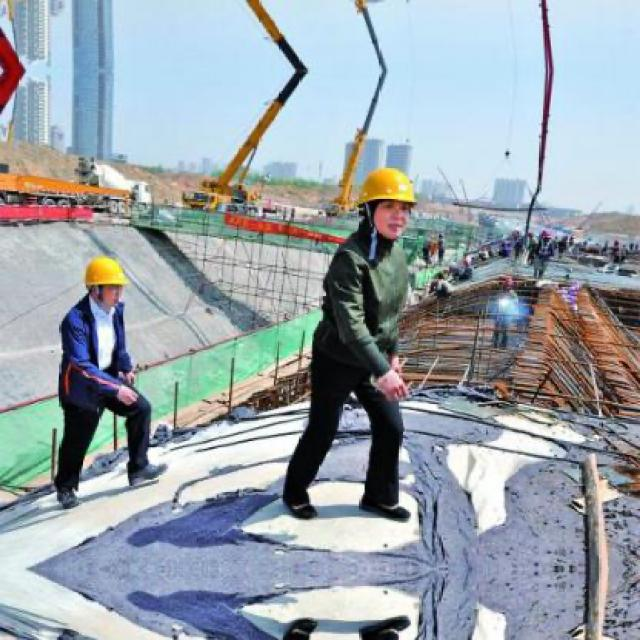helmet: (352, 160, 425, 244), (83, 253, 129, 308)
